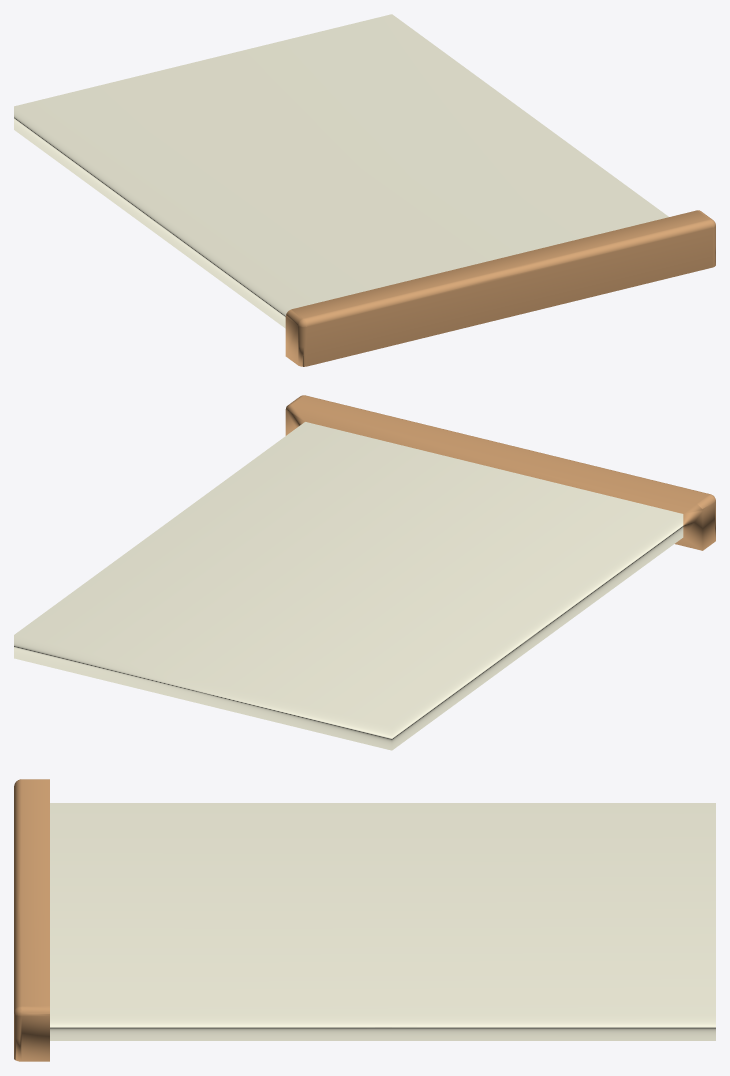
The model's file is underTable.dae.
The picture shows the model from 3 angles, top to bottom: view 1: azimuth 30°, elevation 25°; view 2: azimuth 150°, elevation 25°; view 3: azimuth 270°, elevation 25°; orthographic projection. The views are drawn at different scales.
Visible parts, largest first — view 1: transform1; view 2: transform1; view 3: transform1.
Boxes of the visible parts, bbox=[...] form: transform1: bbox=[14, 14, 715, 366]; transform1: bbox=[14, 395, 715, 750]; transform1: bbox=[14, 779, 715, 1061].
Size of the model in its own units: 0.353 by 0.037 by 0.45.
Materials: 1 (1 with a texture image).
